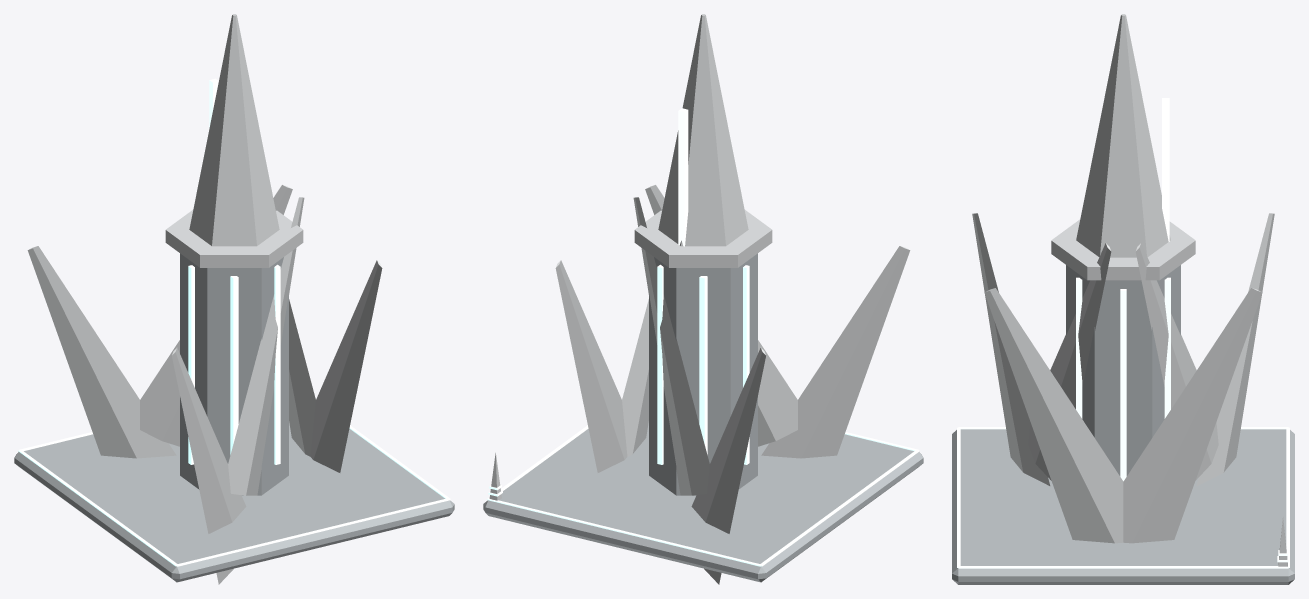
The model's file is zone_high_5_t2.glb.
3 views of the same model, side by side, from view 1: azimuth 30°, elevation 25°; view 2: azimuth 150°, elevation 25°; view 3: azimuth 270°, elevation 25° (orthographic). The views are drawn at different scales.
Parts seen in each view (by area): view 1: zone_high_5_t2, detail; view 2: zone_high_5_t2, detail; view 3: zone_high_5_t2, detail.
Part boxes in pixels (x1,y1,x2,y2): zone_high_5_t2: (14, 14, 454, 584); detail: (18, 425, 450, 566); zone_high_5_t2: (483, 14, 923, 584); detail: (487, 425, 919, 566); zone_high_5_t2: (952, 14, 1294, 584); detail: (957, 427, 1289, 568).
Size of the model in its own units: 27.5 by 48.18 by 27.5.
